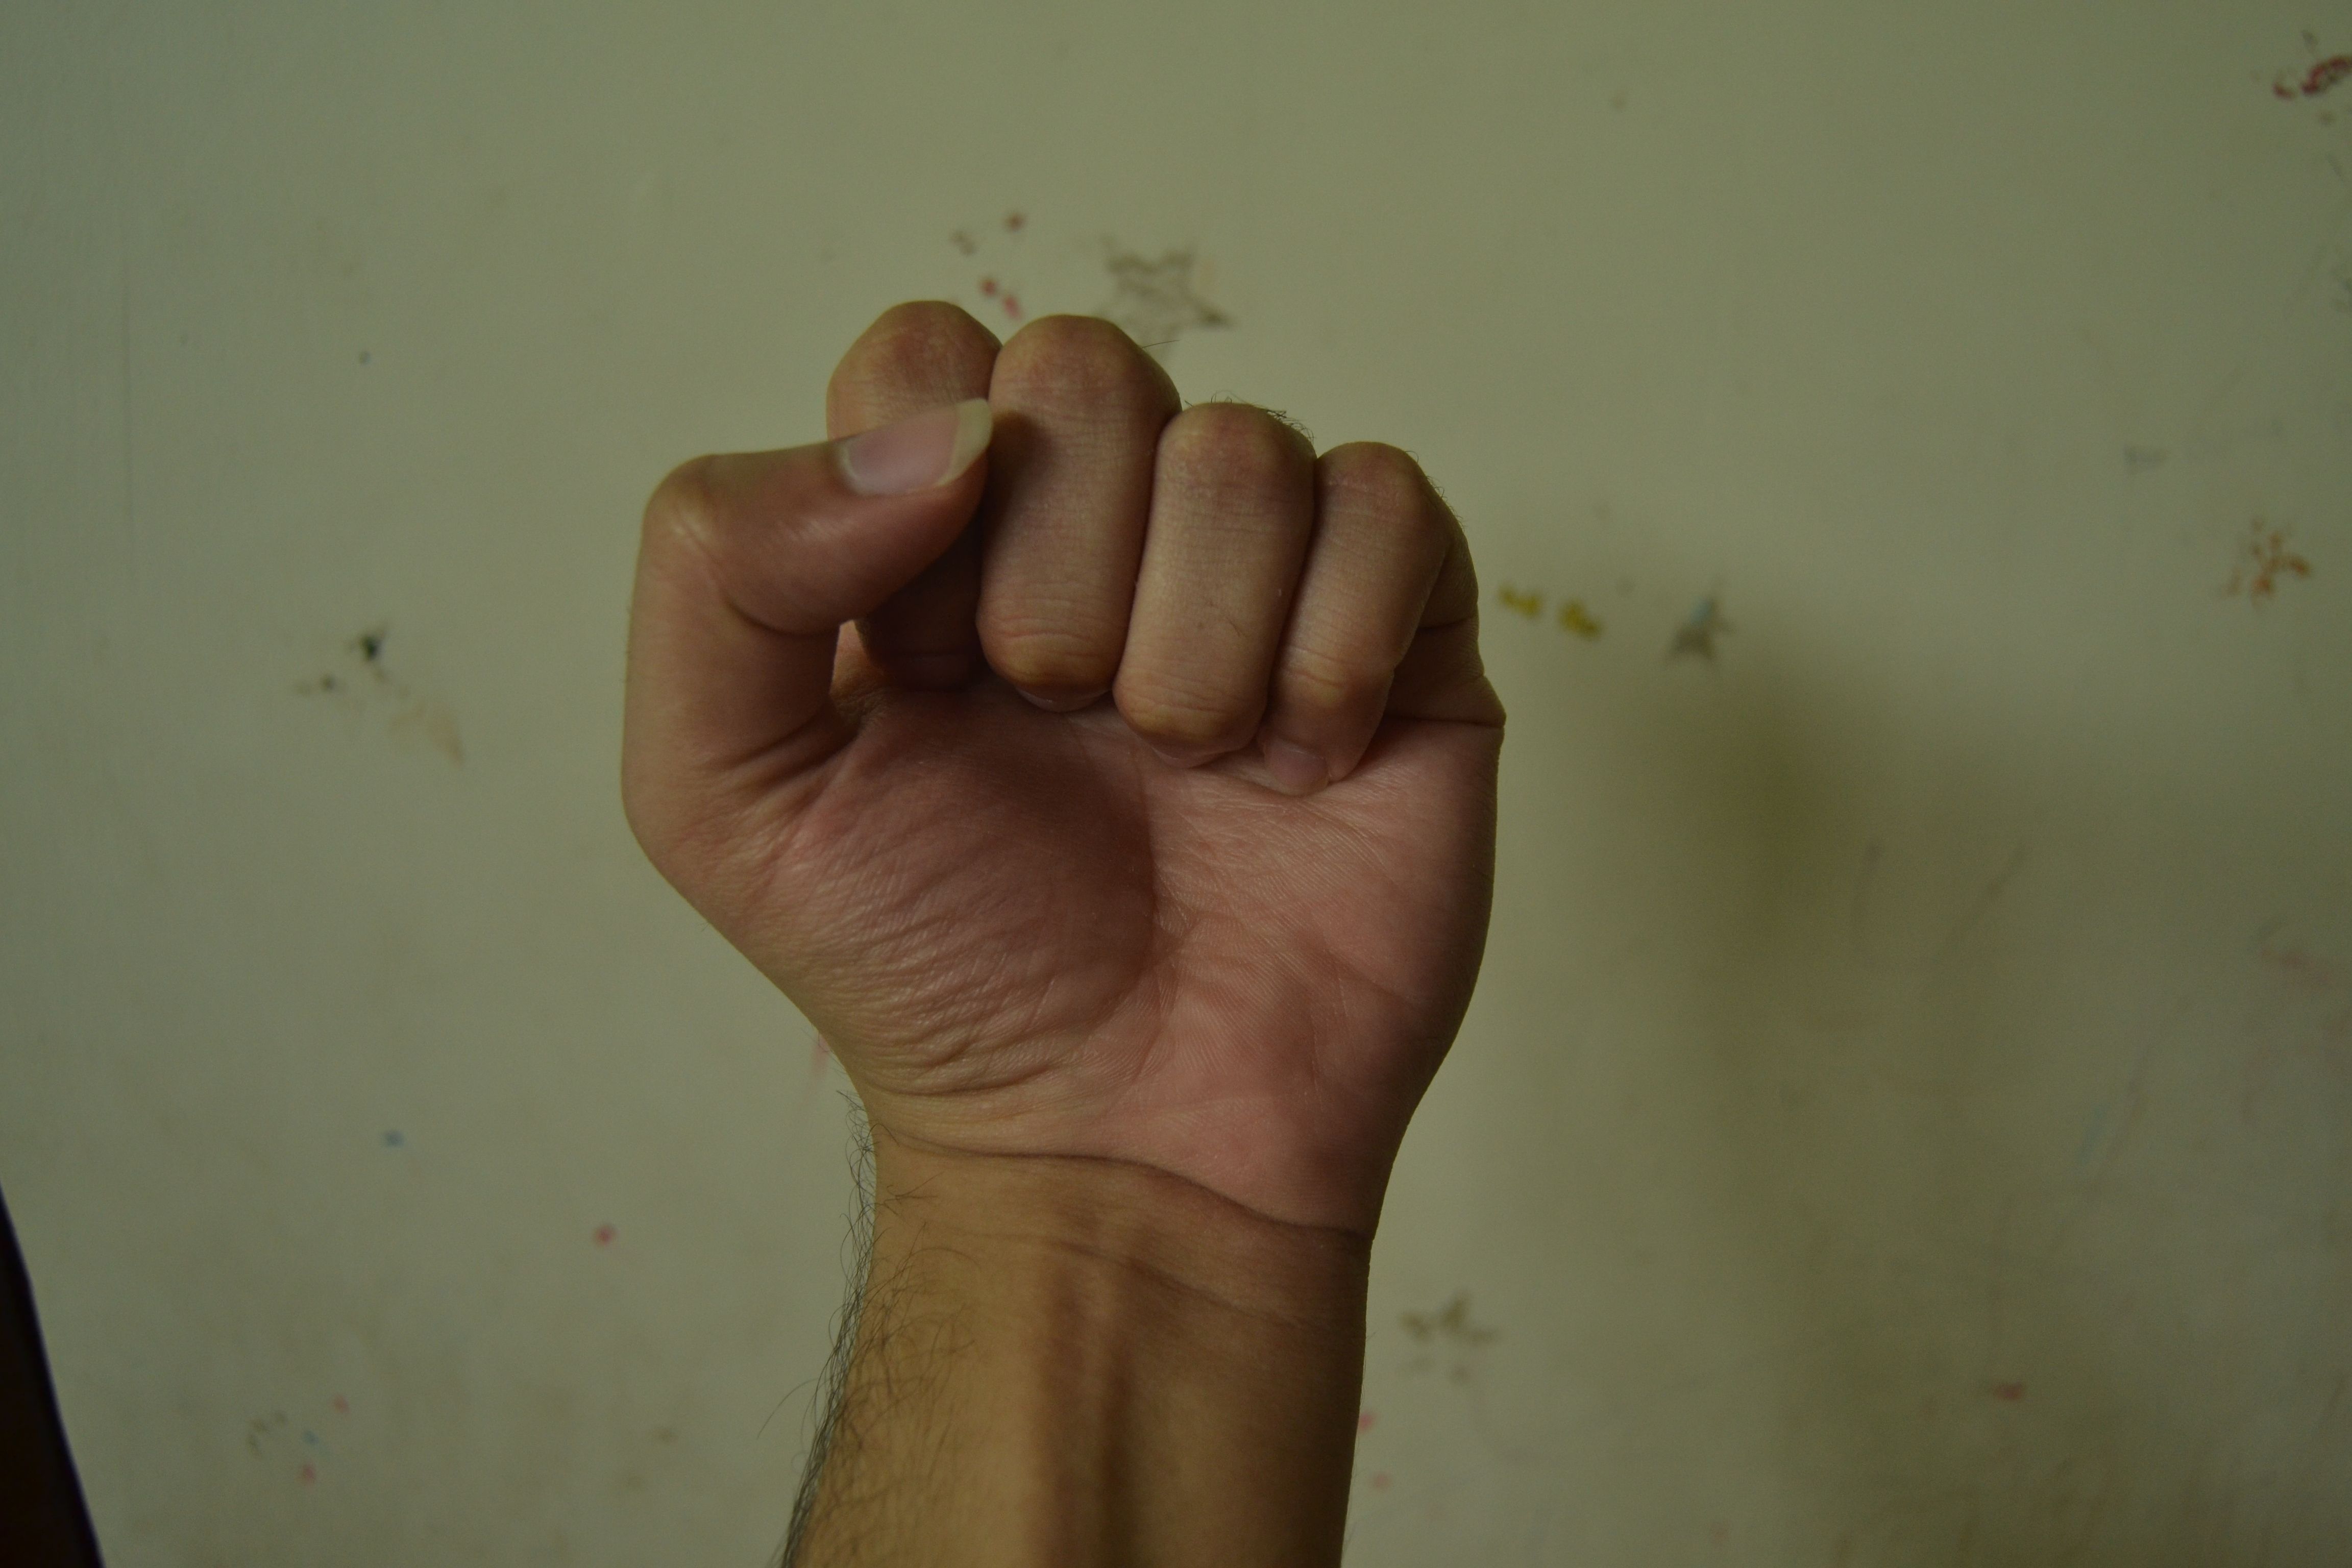click: (588, 285, 1627, 1316)
